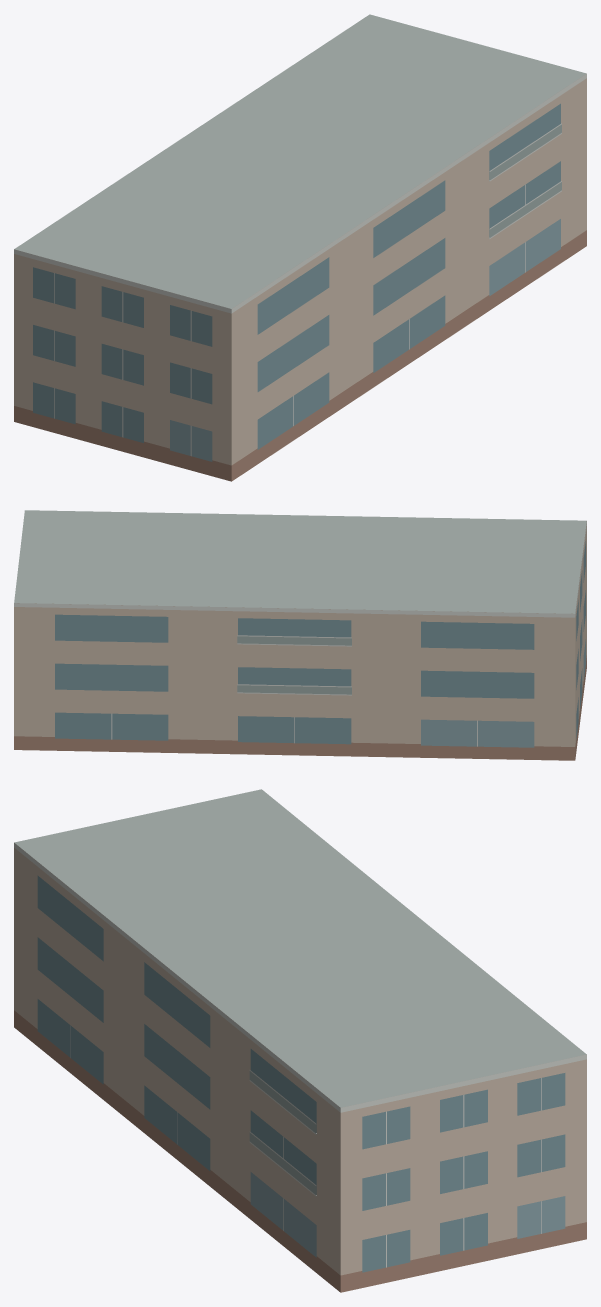
Rendered from survey-upis-32831088.glb.
3 renders of one model, top to bottom at view 1: azimuth 30°, elevation 25°; view 2: azimuth 150°, elevation 25°; view 3: azimuth 270°, elevation 25°, orthographic. The views are drawn at different scales.
Parts seen in each view (by area): view 1: survey-upis-32831088.tmp; view 2: survey-upis-32831088.tmp; view 3: survey-upis-32831088.tmp.
Boxes of the visible parts, bbox=[...] form: survey-upis-32831088.tmp: bbox=[14, 14, 586, 481]; survey-upis-32831088.tmp: bbox=[14, 510, 586, 760]; survey-upis-32831088.tmp: bbox=[14, 789, 586, 1292].
Bounding box in the file's own units: 33.84 × 9.15 × 25.71.
